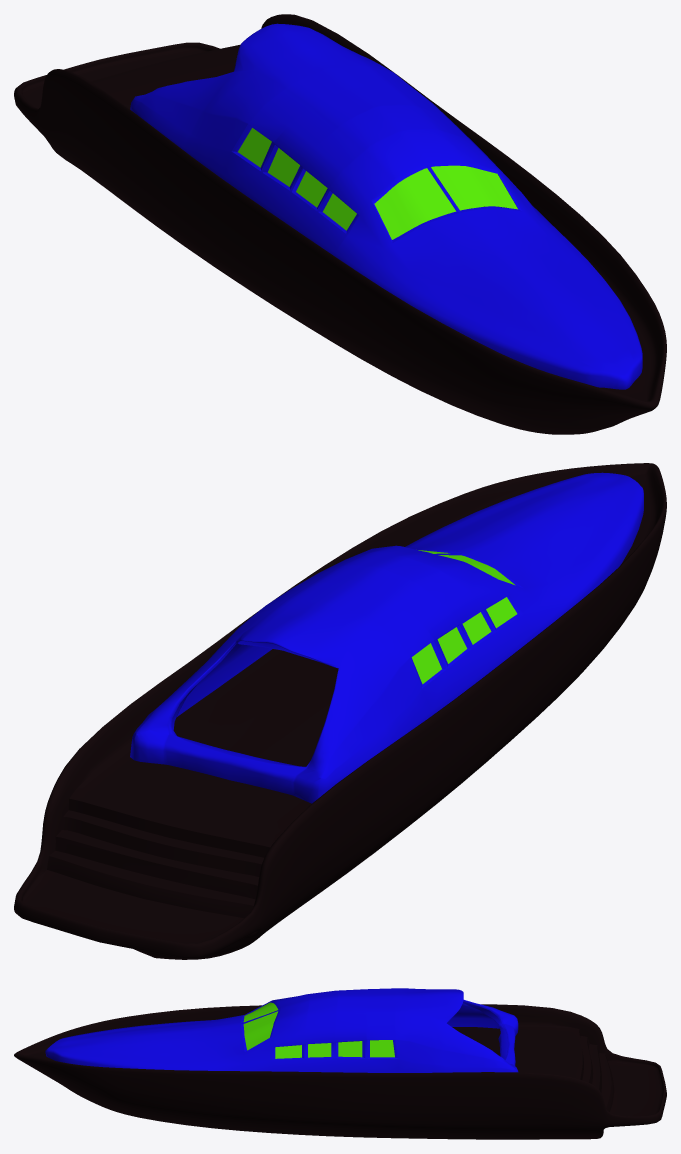
The model's file is YachtLast5.fbx.
The picture shows the model from 3 angles, top to bottom: view 1: azimuth 30°, elevation 25°; view 2: azimuth 150°, elevation 25°; view 3: azimuth 270°, elevation 25°; orthographic projection. The views are drawn at different scales.
Parts seen in each view (by area): view 1: BoatTop, BoatBottom, BoatTop.001, BoatTop.002; view 2: BoatBottom, BoatTop, BoatTop.002; view 3: BoatBottom, BoatTop, BoatTop.002, BoatTop.001.
Part boxes in pixels (x1=…): BoatTop: x1=130, y1=23, x2=642, y2=389; BoatBottom: x1=14, y1=14, x2=666, y2=434; BoatTop.001: x1=374, y1=165, x2=517, y2=239; BoatTop.002: x1=238, y1=128, x2=356, y2=230; BoatBottom: x1=14, y1=463, x2=666, y2=959; BoatTop: x1=130, y1=472, x2=643, y2=803; BoatTop.002: x1=411, y1=597, x2=517, y2=684; BoatBottom: x1=14, y1=1004, x2=666, y2=1139; BoatTop: x1=45, y1=988, x2=518, y2=1072; BoatTop.002: x1=275, y1=1040, x2=394, y2=1058; BoatTop.001: x1=243, y1=1002, x2=278, y2=1050.
Bounding box in the file's own units: 559 × 519 × 2227.
